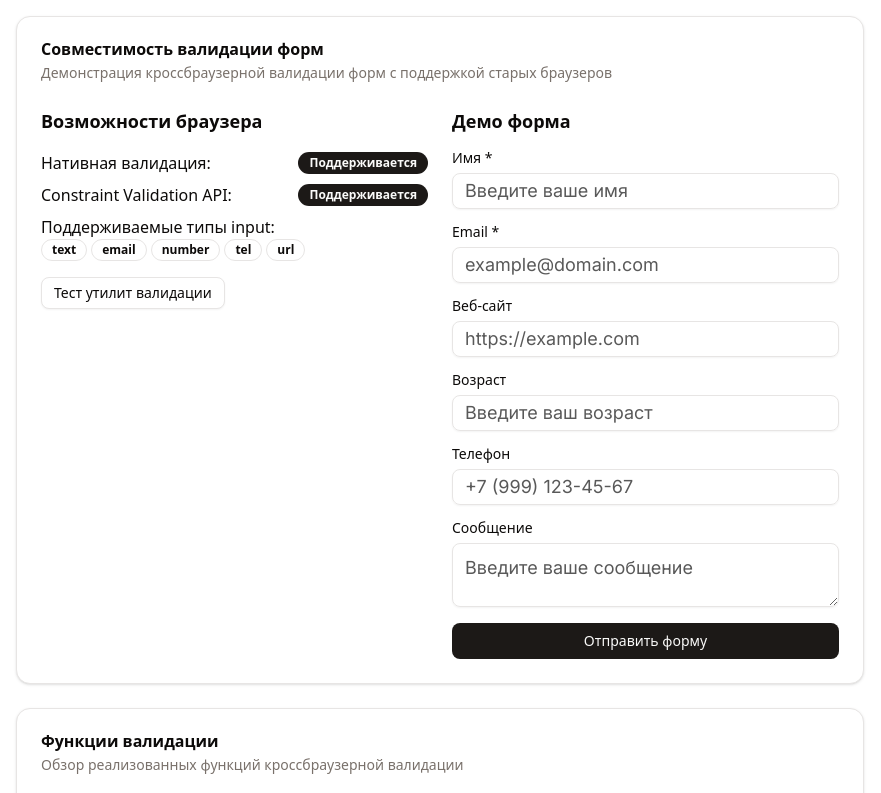
it: Form Validation Integration › should handle form submission
The width and height of the screenshot is (881, 793).
// Fill required fields
In the field with placeholder "Введите ваше имя": {"x": 646, "y": 191} left=452, top=173, right=839, bottom=209, type "Test User"
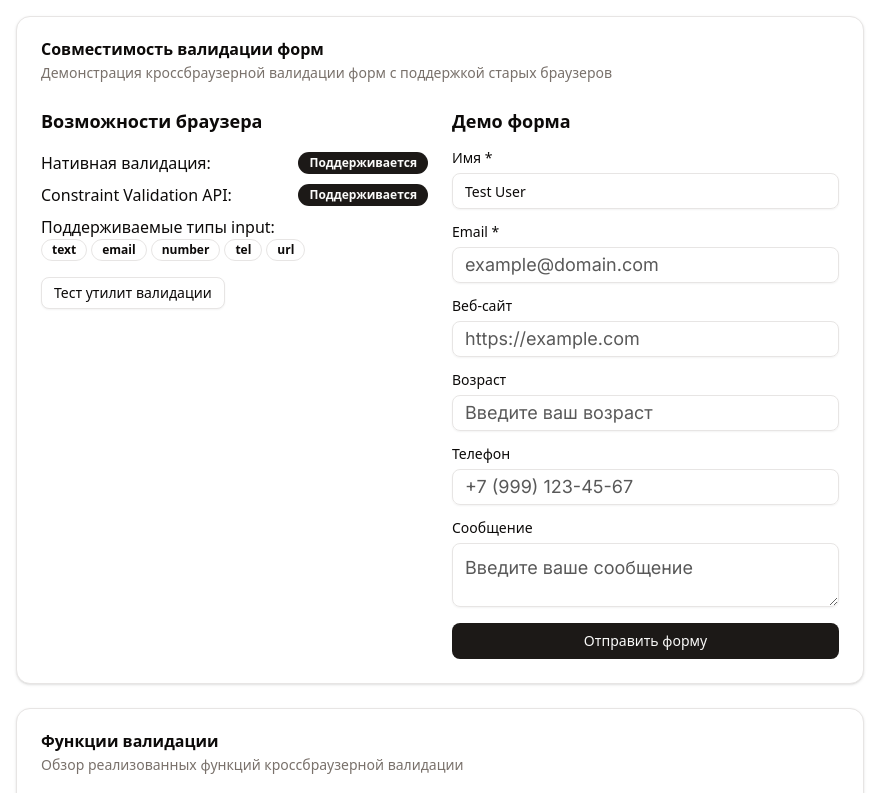
In the field with placeholder "example@domain.com": {"x": 646, "y": 265} left=452, top=247, right=839, bottom=283, type "test@example.com"
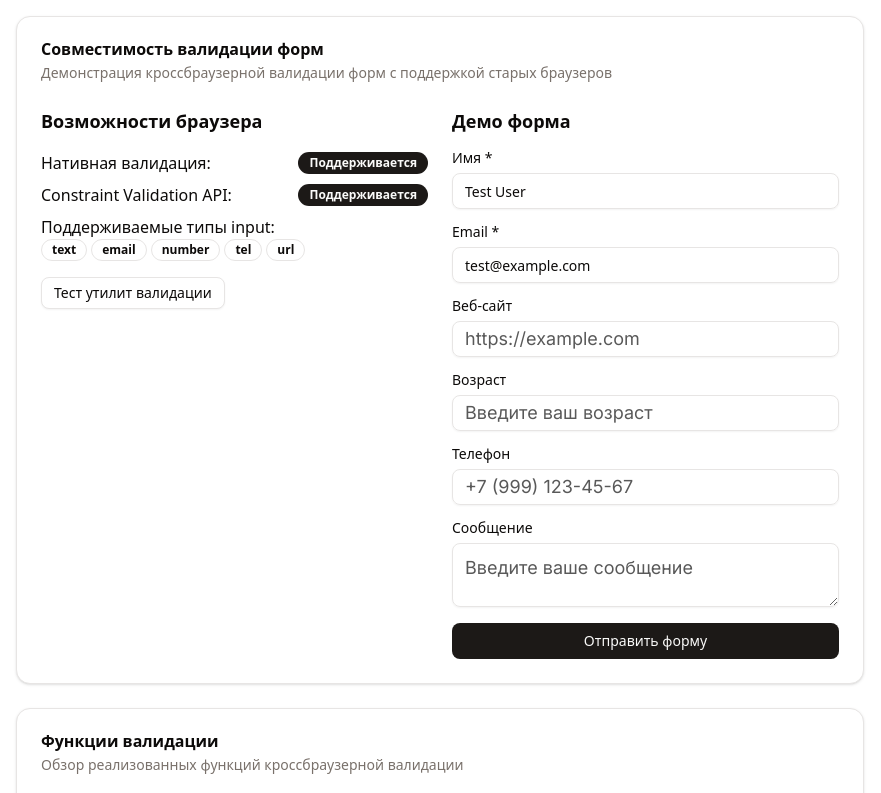
// Submit form
Click the button "Отправить форму": {"x": 646, "y": 641} left=452, top=623, right=839, bottom=659
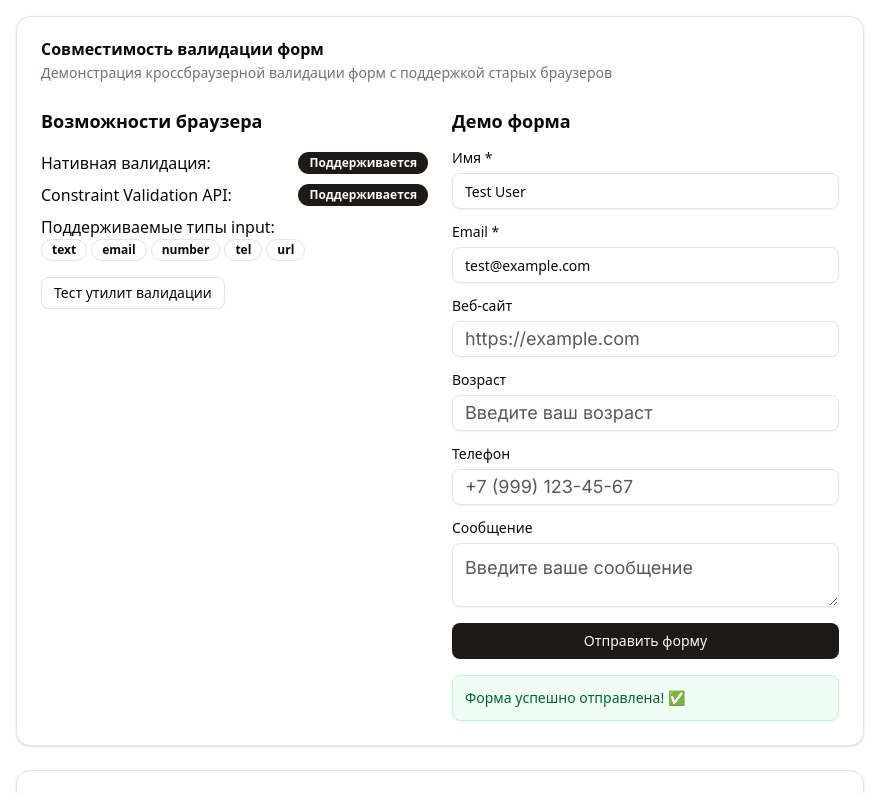
Expected: the text "Форма успешно отправлена! ✅" is shown, left=452, top=675, right=839, bottom=721
